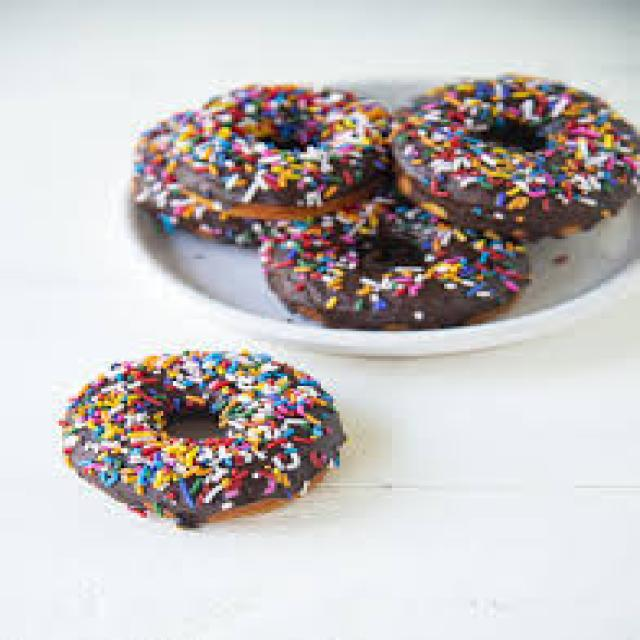Donut: (182, 95, 640, 342), (74, 364, 376, 526)
